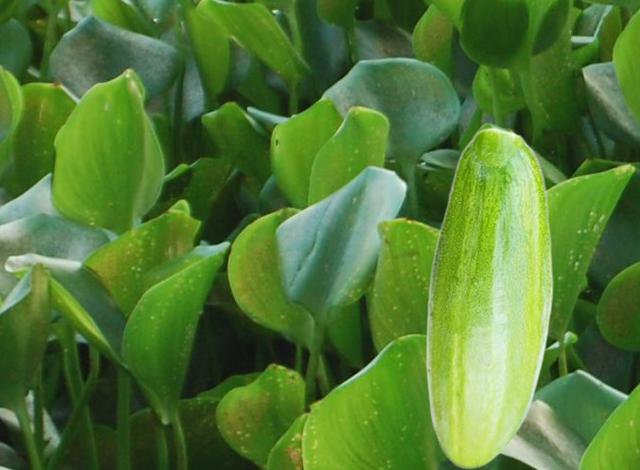cucumber: (425, 127, 552, 468)
